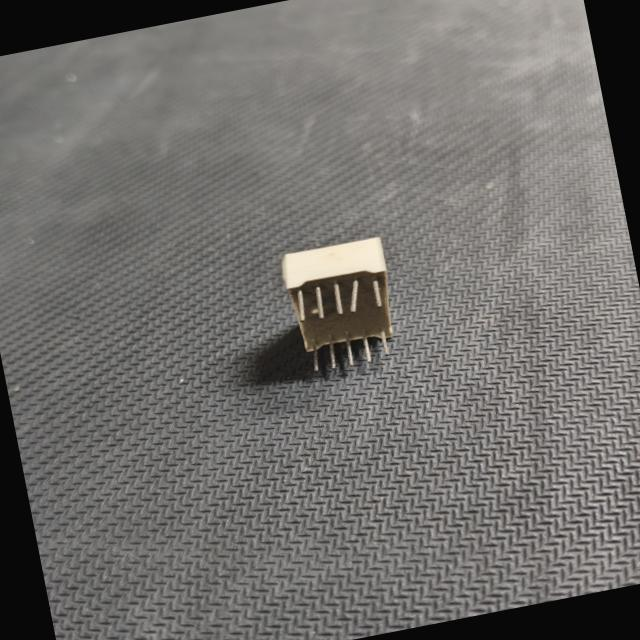sevensegment: (260, 222, 420, 387)
